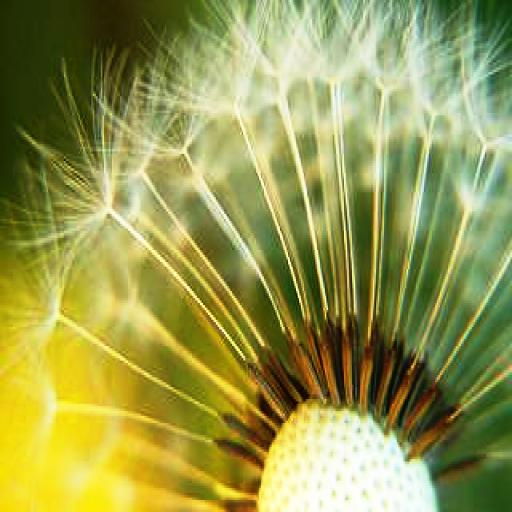dandelion: (1, 0, 512, 509)
